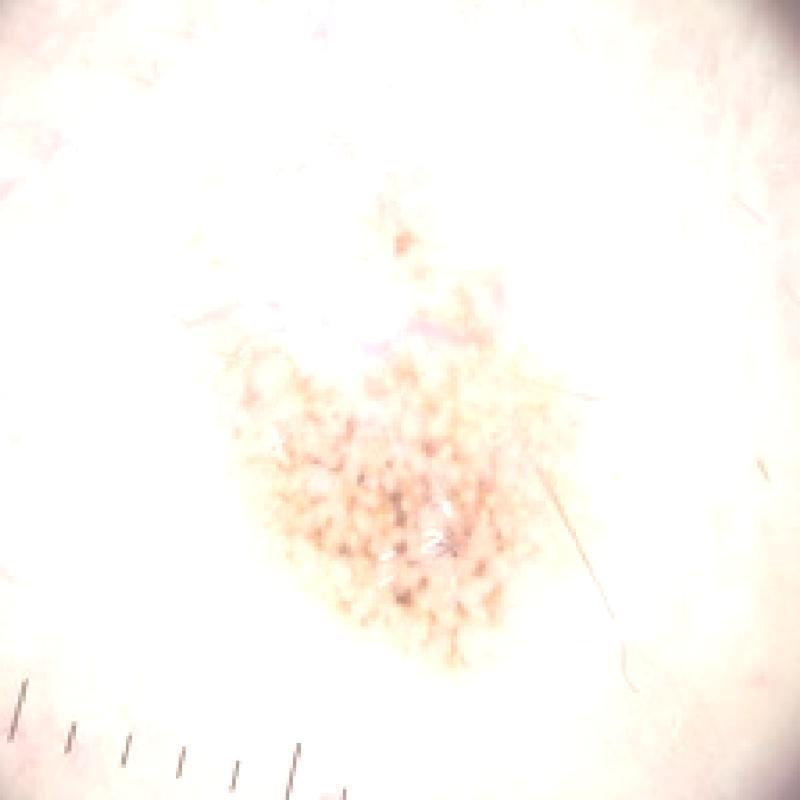malignant: (137, 168, 646, 698)
